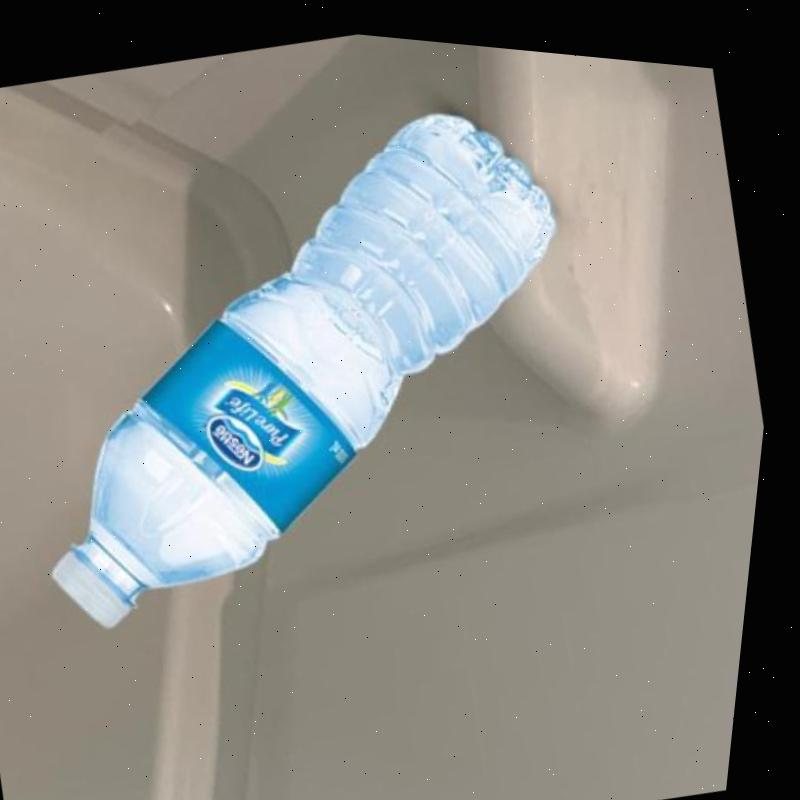botella: (0, 41, 650, 676)
